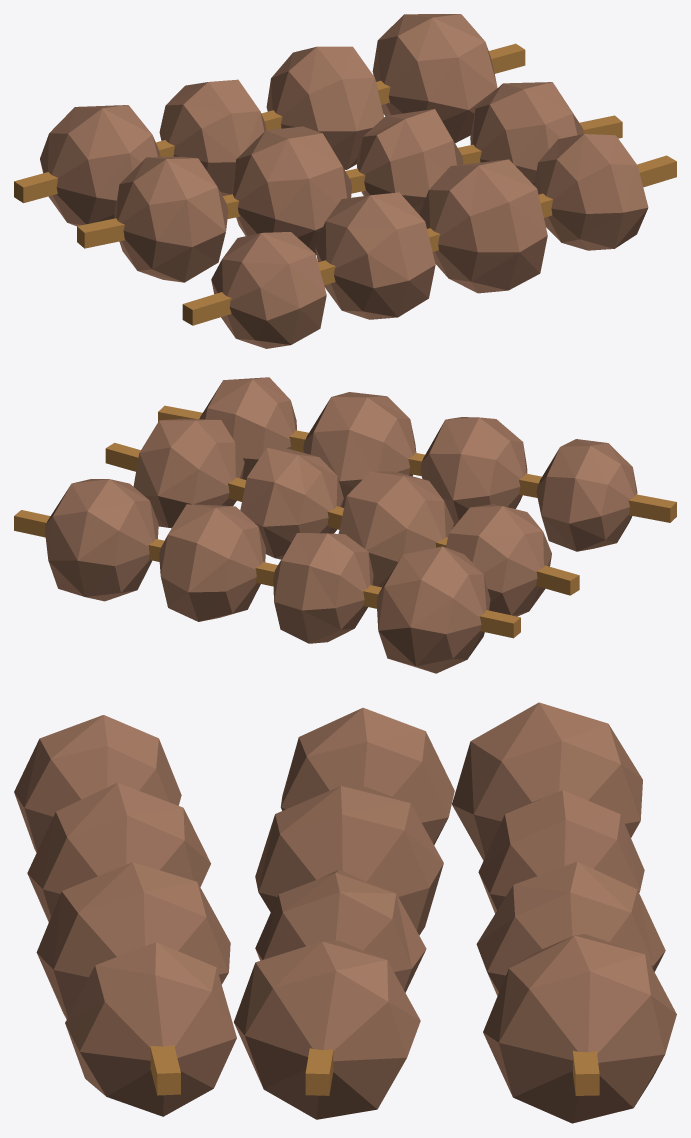
Rendered from SM_Cook_Topping_Skewer_01.fbx.
3 renders of one model, top to bottom at view 1: azimuth 30°, elevation 25°; view 2: azimuth 150°, elevation 25°; view 3: azimuth 270°, elevation 25°, orthographic. The views are drawn at different scales.
Visible parts, largest first — view 1: SM_Cook_Topping_Skewer_01; view 2: SM_Cook_Topping_Skewer_01; view 3: SM_Cook_Topping_Skewer_01.
Boxes of the visible parts, x1,y1,x2,y2 form: SM_Cook_Topping_Skewer_01: [14, 14, 676, 348]; SM_Cook_Topping_Skewer_01: [14, 377, 676, 673]; SM_Cook_Topping_Skewer_01: [14, 702, 676, 1123].
Bounding box in the file's own units: 0.172 × 0.0421 × 0.1386.
Materials: 1 (1 with a texture image).
